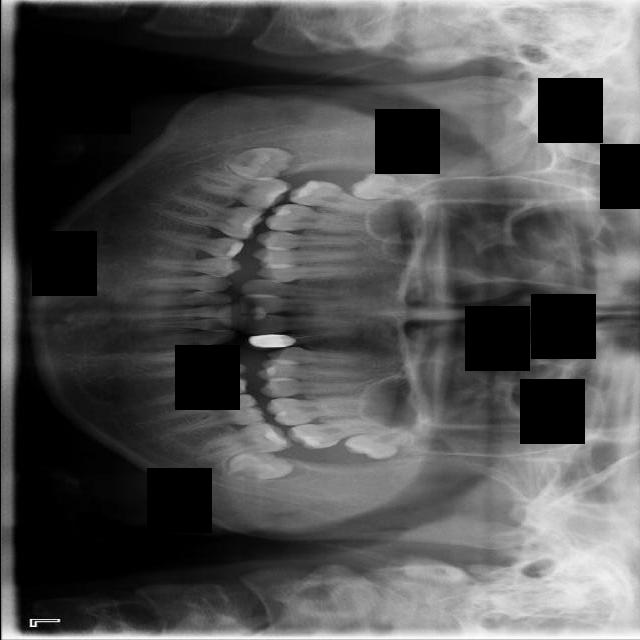3M ESPE Implant: (349, 173, 417, 201)
52: (248, 334, 295, 348), (294, 178, 319, 202), (262, 428, 287, 451), (262, 184, 285, 206), (238, 210, 257, 234), (224, 240, 243, 259), (274, 205, 291, 217), (251, 307, 266, 314), (253, 314, 266, 320)
73: (286, 328, 344, 346), (65, 578, 70, 608)
BioHorizons Implant: (287, 415, 377, 453), (344, 418, 354, 420)
BioLife Implant: (342, 421, 417, 468)
Biomet 3i Implant: (219, 442, 293, 492)
Blue Sky Bio Implant: (192, 418, 291, 463)
Caries: (286, 177, 376, 214)
Implant: (194, 169, 289, 213)
Keystone Dental Implant: (226, 145, 293, 183)
